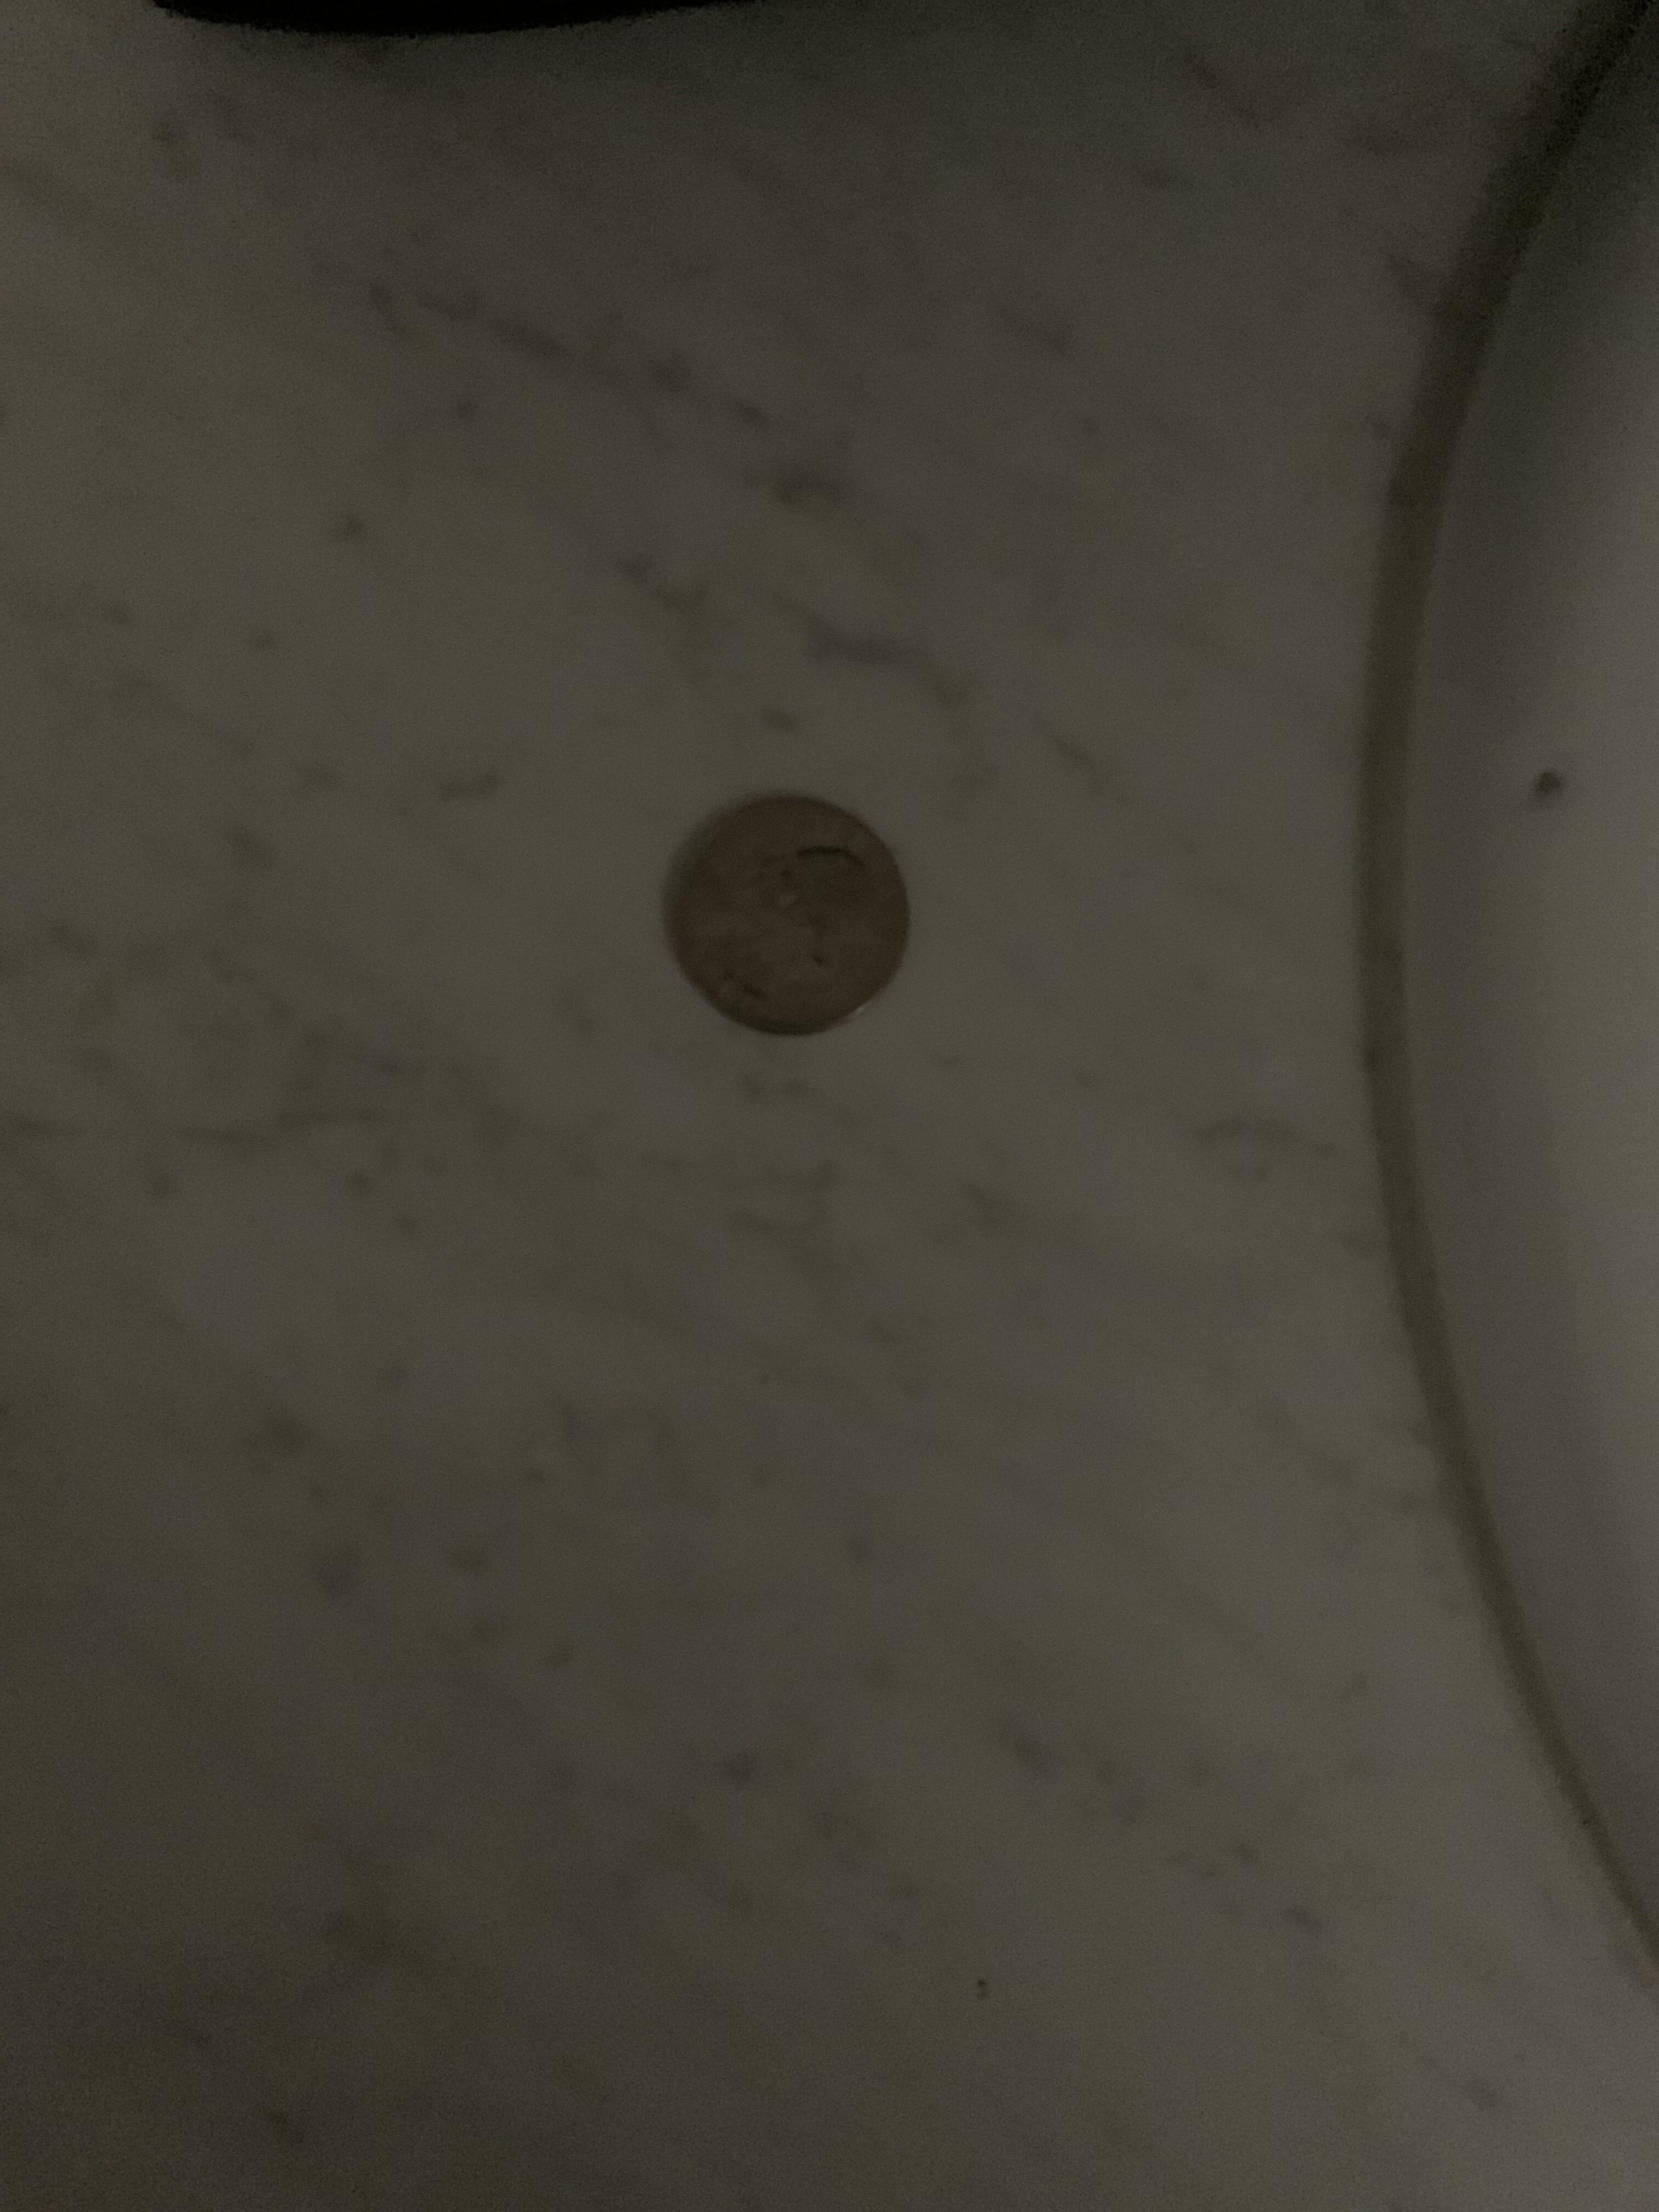Quarter: (655, 772, 934, 1066)
